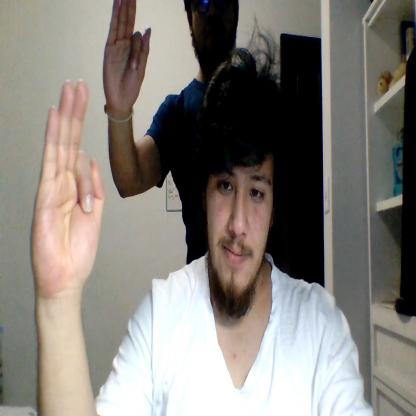F: (30, 82, 104, 291), (104, 0, 151, 112)
